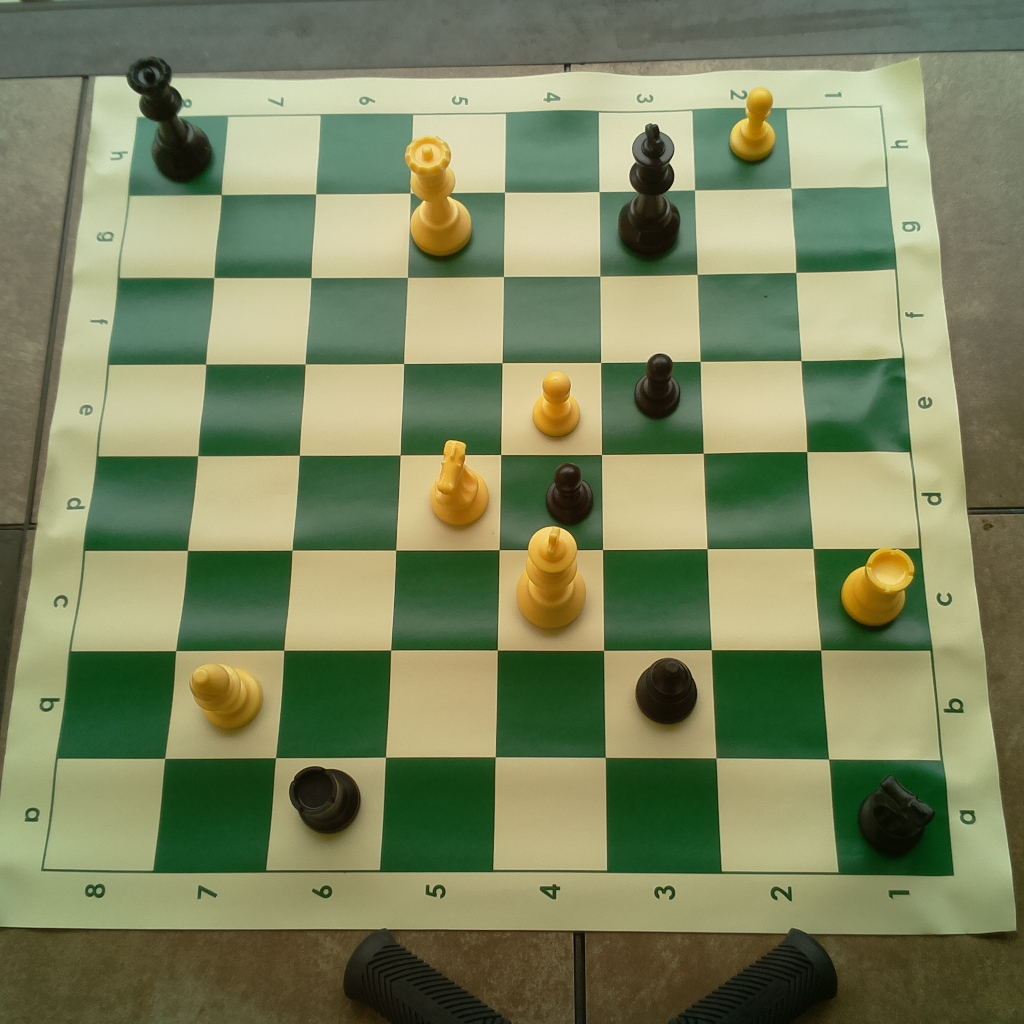black_bishop: (632, 654, 701, 727)
black_king: (614, 118, 683, 260)
black_knight: (851, 771, 938, 857)
black_pawn: (541, 456, 598, 527), (634, 349, 688, 421)
black_queen: (125, 53, 223, 186)
black_rook: (290, 758, 363, 835)
file_a: (41, 758, 953, 875)
file_b: (53, 651, 941, 761)
file_c: (66, 549, 936, 651)
file_d: (85, 454, 920, 548)
file_e: (96, 360, 910, 452)
file_f: (107, 267, 901, 358)
file_g: (119, 188, 896, 279)
file_h: (131, 106, 886, 186)
outline: (41, 109, 953, 874)
rank_1: (785, 106, 954, 874)
rank_2: (693, 108, 841, 871)
rank_3: (599, 108, 723, 874)
rank_4: (490, 112, 610, 873)
rank_5: (379, 113, 505, 873)
rank_6: (266, 115, 411, 869)
rank_7: (153, 119, 319, 873)
rank_8: (42, 115, 227, 874)
white_bishop: (183, 658, 267, 731)
white_king: (508, 518, 593, 630)
white_knight: (421, 435, 492, 531)
white_pawn: (724, 84, 779, 167), (529, 370, 585, 438)
white_queen: (403, 132, 473, 261)
white_rook: (837, 540, 918, 632)
